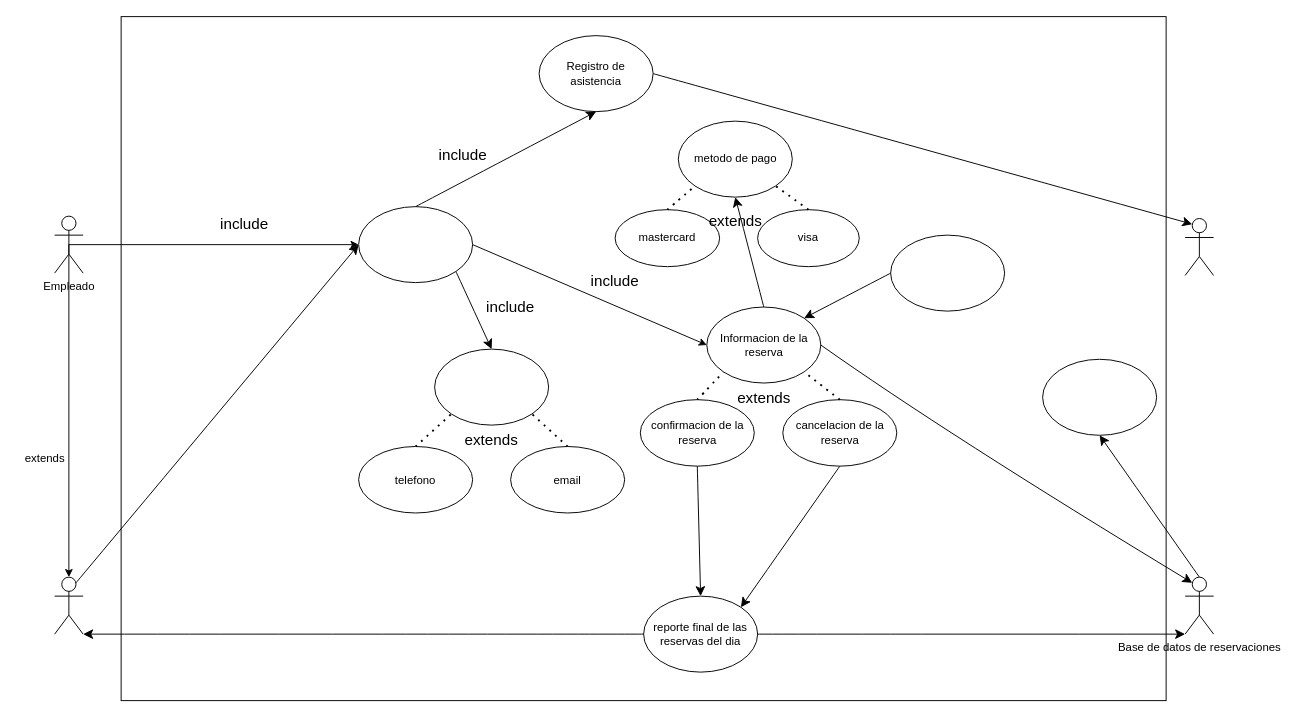
Some shapes in this 1297 by 717 pixel diagram are drawn without their labels. The shapes that lost their labels are listed below. From the top down, each one's box as (x1, y1, x2, y2) in pixels, then its label:
(358, 206, 473, 283): acceder a las reservas de los clientes
(1184, 218, 1214, 276): Base de datos de registro
(890, 234, 1005, 311): Pista
(434, 348, 549, 425): contacto del cliente
(1042, 358, 1157, 435): actualiza al administrador
(54, 576, 83, 634): Administrador
